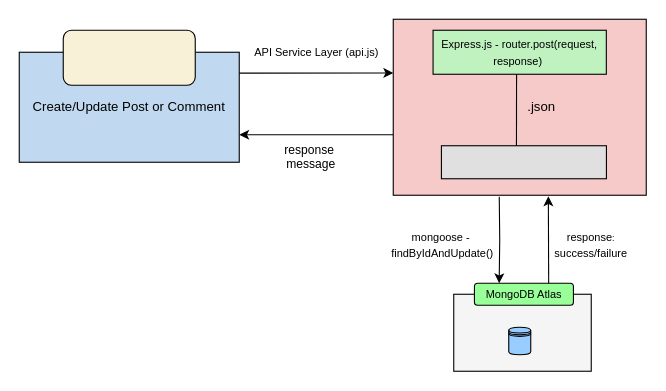
The diagram is 666 pixels wide and 391 high, and some of its shapes have lost their labels. The shapes that lost their labels are listed below. From the top down, each one's centre as x and y in pixels, then its label:
the point at 128,57: Front-end React app
the point at 523,162: Node.js - execute the application logic in JS
